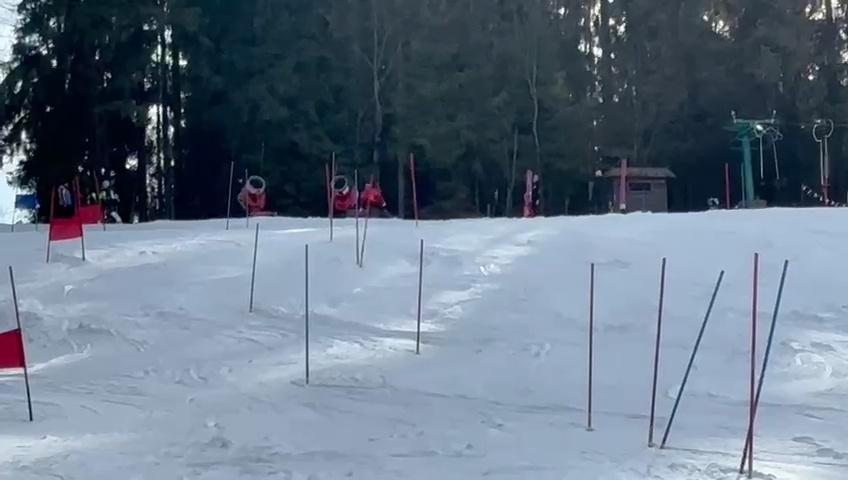gate: (644, 236, 736, 466), (4, 177, 62, 420), (317, 142, 378, 285), (396, 123, 446, 279), (574, 248, 610, 434), (741, 253, 768, 480), (645, 253, 667, 453), (63, 162, 96, 270), (298, 240, 315, 385), (584, 260, 598, 436), (243, 221, 263, 319), (404, 285, 431, 356), (414, 239, 428, 357), (222, 159, 238, 240)
